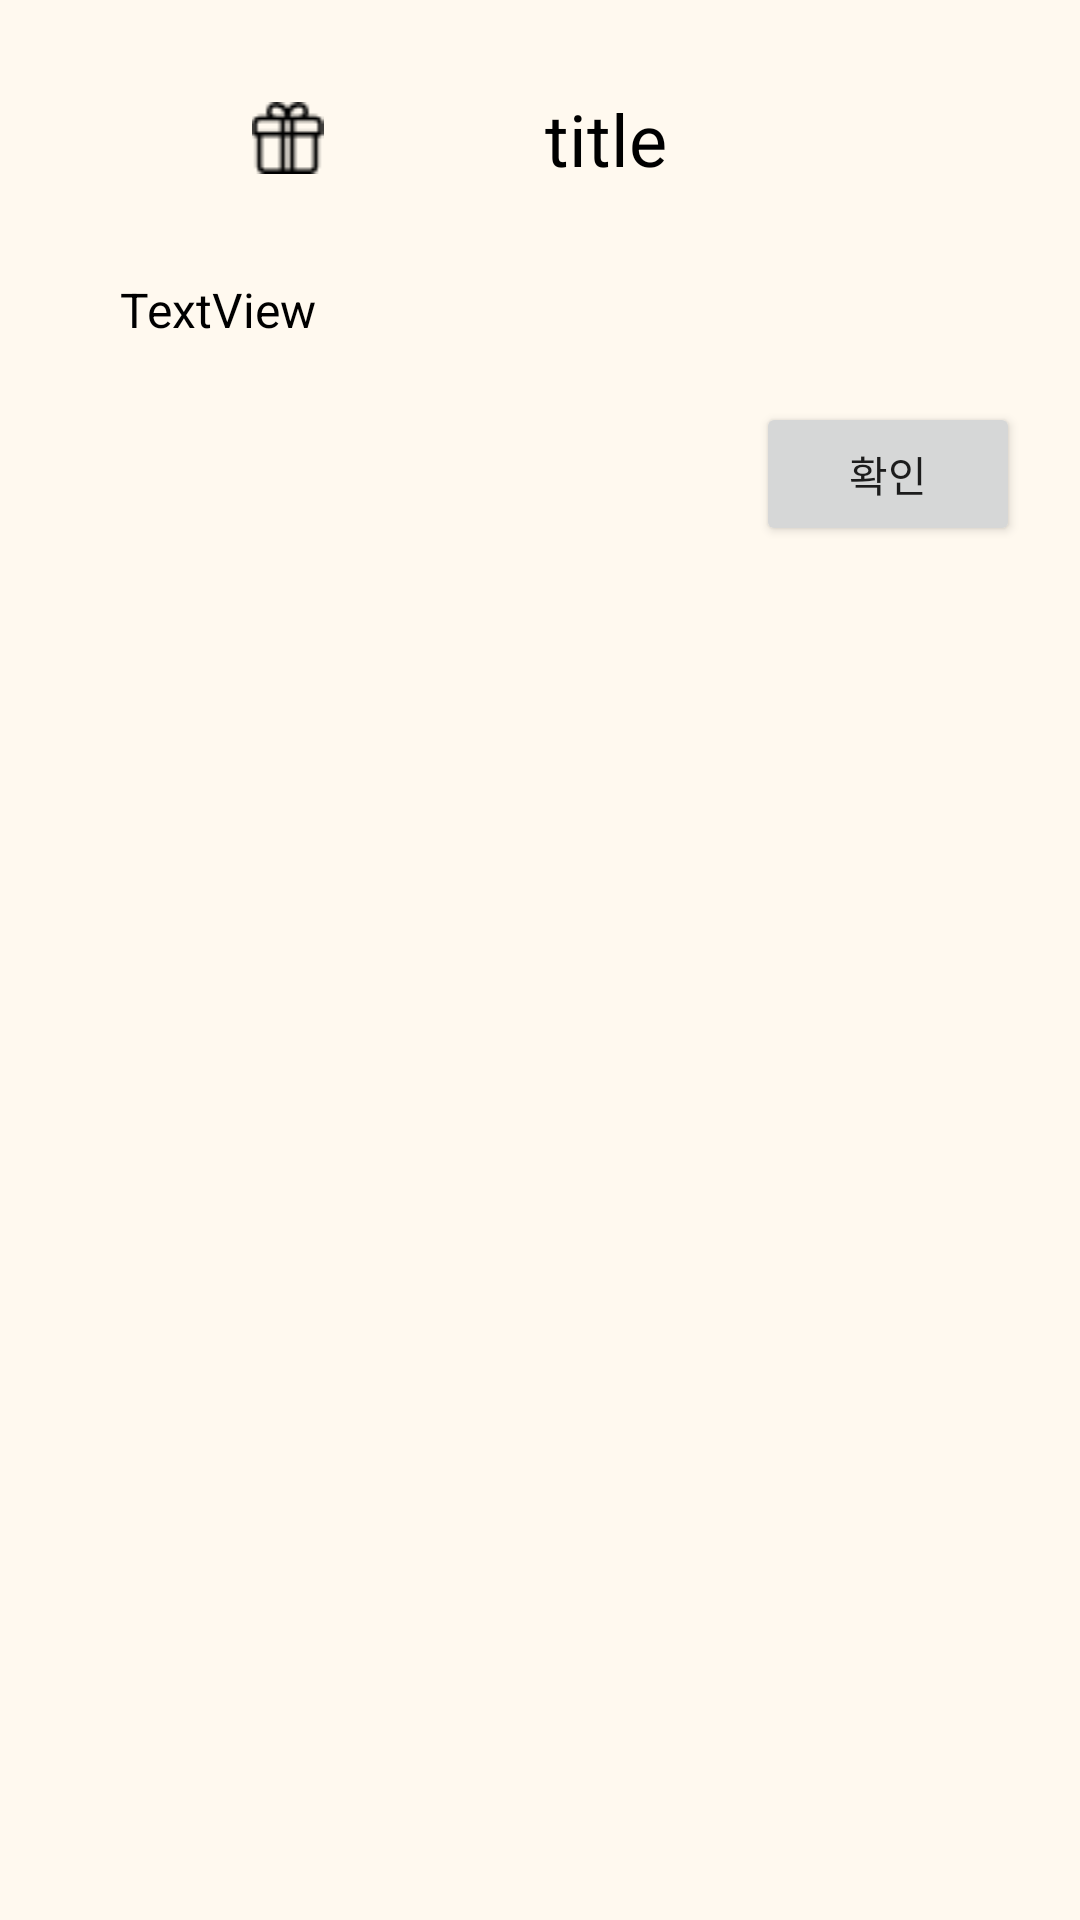

Named icons in this screenshot (1080w x 1920h) and their bounding boxes, region(x1, y1, x2, y2):
gifticon: region(252, 102, 324, 174)
